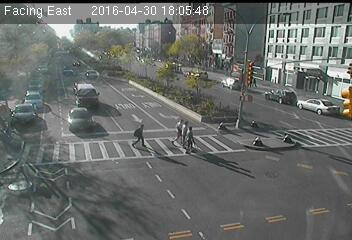neg: (12, 155, 37, 188), (222, 105, 244, 134), (228, 73, 247, 98), (54, 106, 73, 131), (181, 80, 198, 103), (147, 80, 161, 98), (251, 134, 262, 149), (282, 132, 292, 146)
pos: (165, 117, 186, 145), (181, 126, 201, 154), (132, 122, 151, 147), (252, 77, 261, 88)
